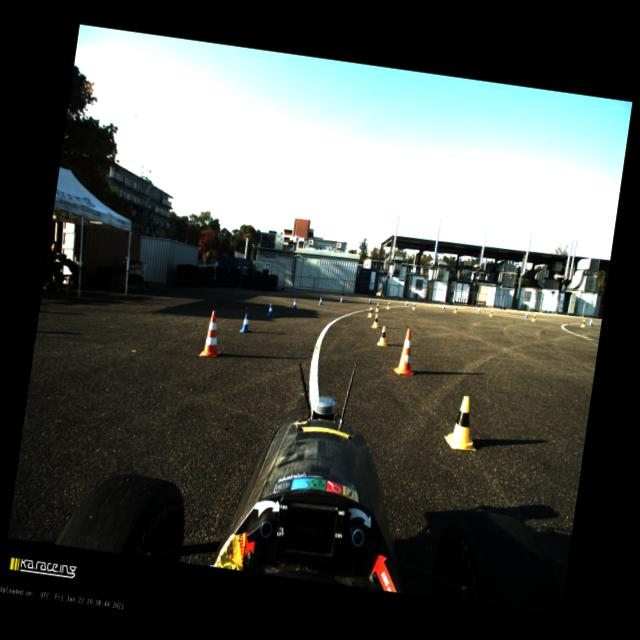blue_cone: (240, 312, 252, 334), (266, 303, 276, 317), (292, 298, 298, 309), (318, 296, 324, 306), (588, 318, 594, 327), (339, 296, 344, 304), (524, 311, 529, 318), (404, 300, 408, 306), (368, 298, 372, 304), (477, 307, 481, 313), (442, 303, 446, 309)
large_orange_cone: (199, 309, 226, 358), (394, 328, 421, 377)
yellow_cone: (443, 394, 483, 452), (377, 325, 390, 347), (371, 314, 380, 328), (366, 306, 374, 318), (374, 302, 380, 312), (580, 318, 586, 328), (386, 301, 392, 310), (530, 313, 536, 322), (452, 306, 458, 314), (488, 309, 494, 317), (412, 303, 417, 310)
